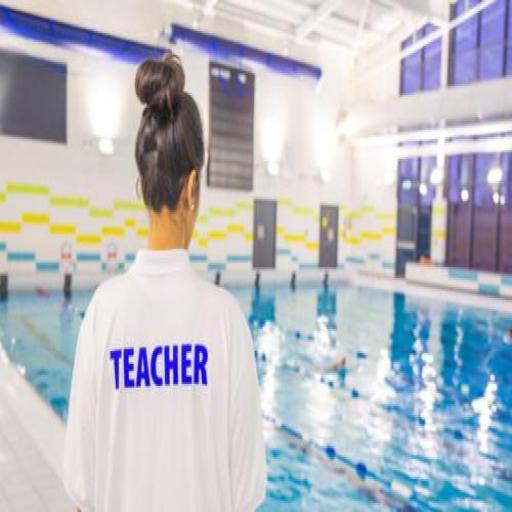swimming: (60, 50, 268, 510)
